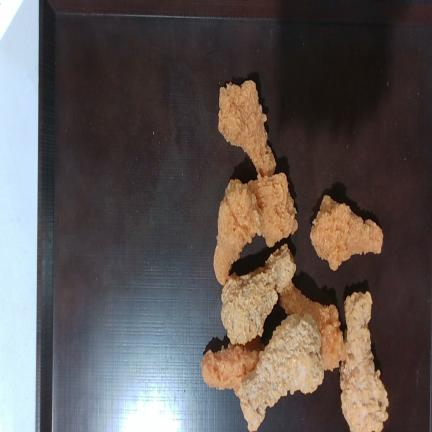chicken: (237, 314, 324, 431), (221, 245, 296, 344), (340, 292, 388, 431), (279, 281, 346, 370), (310, 195, 383, 271), (219, 80, 276, 176), (214, 179, 261, 284), (247, 173, 297, 247), (201, 337, 263, 394)
